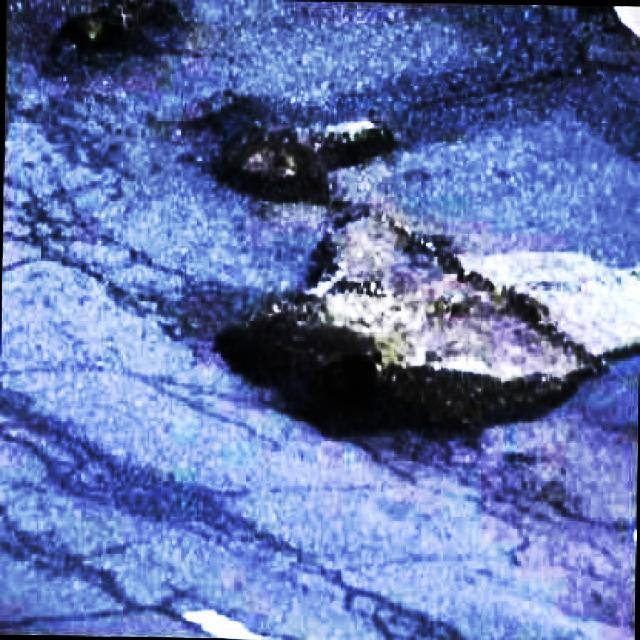pothole: (205, 198, 604, 448), (196, 102, 396, 205), (50, 0, 195, 78)
